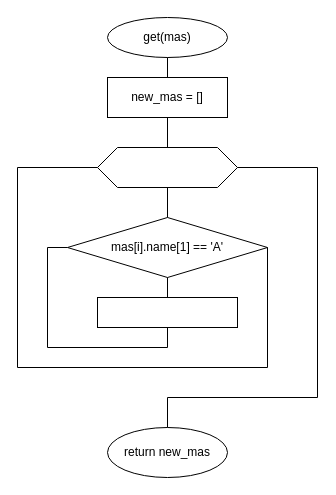
The diagram is 336 pixels wide and 495 high, and some of its shapes have lost their labels. Here are the shapes that lost their labels. From the top down, the centre of each, then its label:
[167,167]: for i = 1, length(mas)
[167,312]: push!(new_mas, mas[i])
